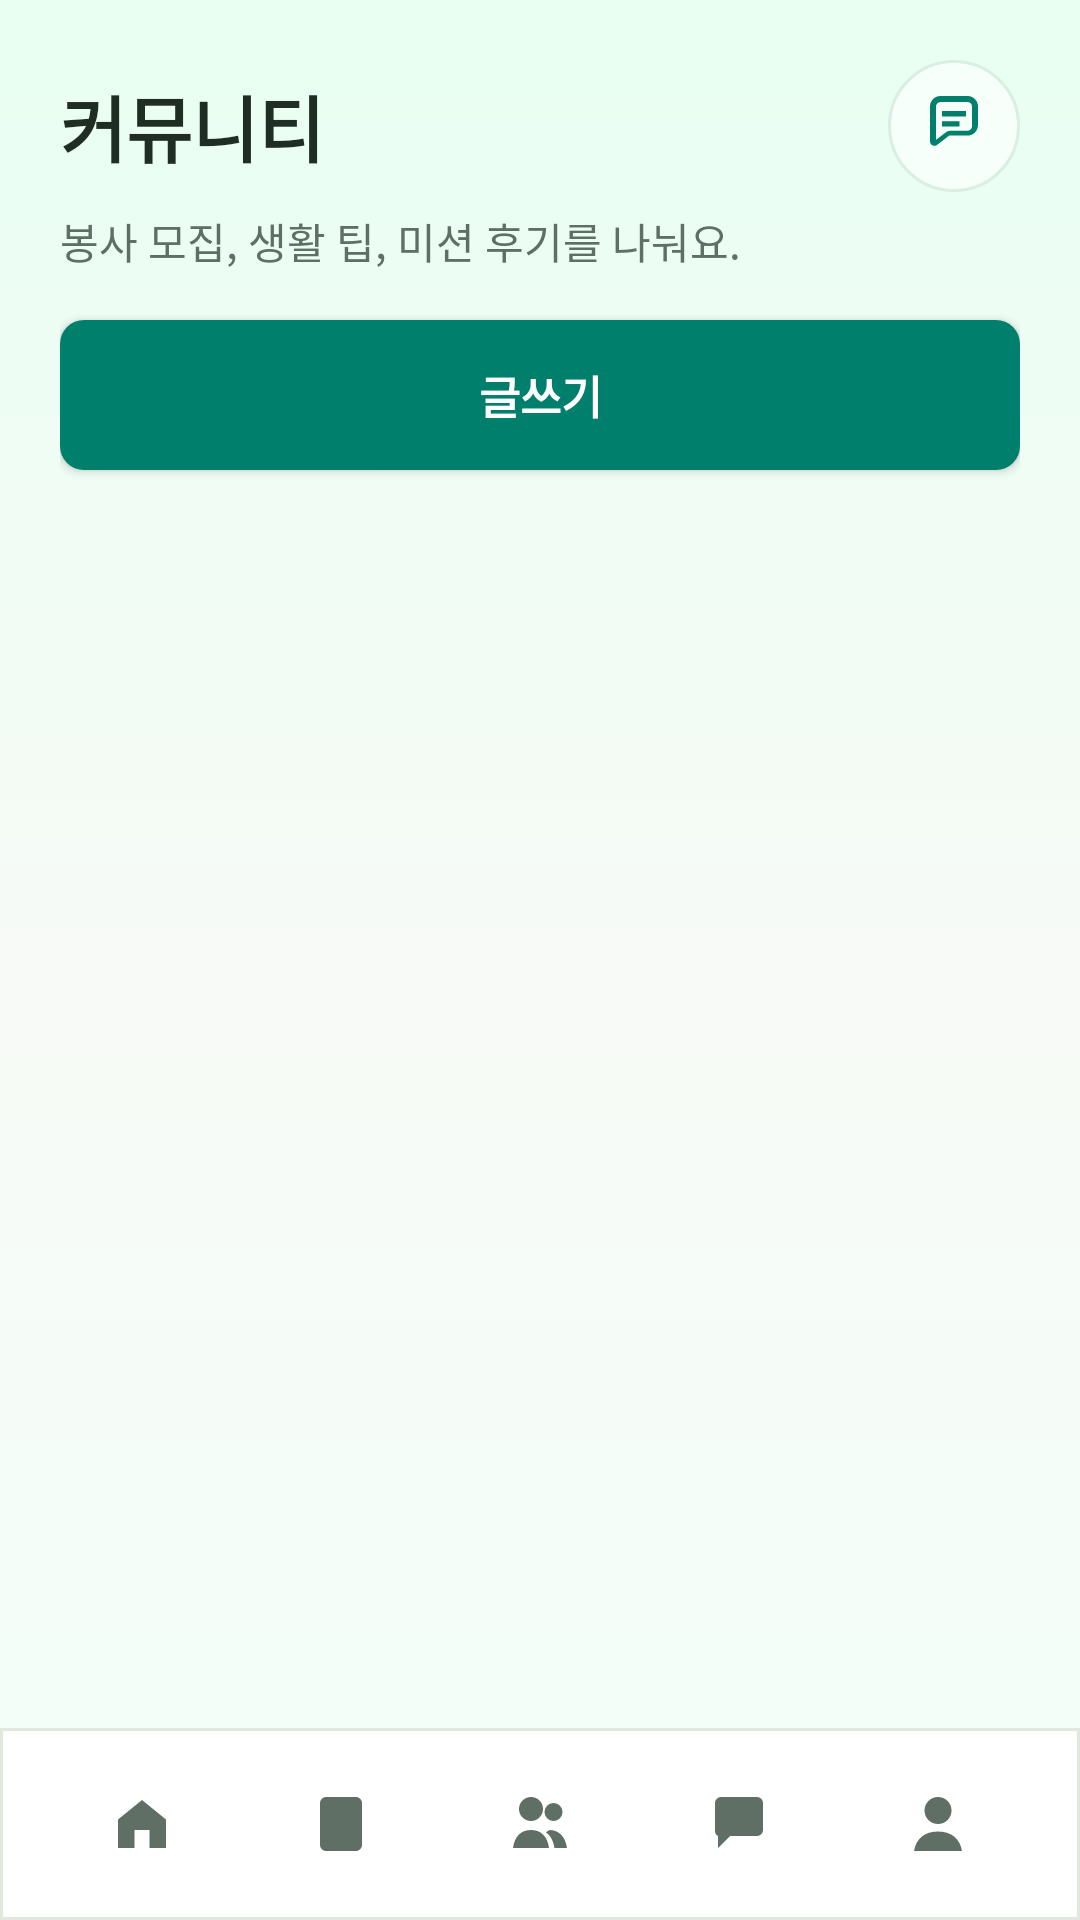

Named icons in this screenshot (1080w x 1920h) and their centers, point (x, y):
home: point (142, 1824)
마이페이지: point (938, 1824)
친구: point (540, 1822)
